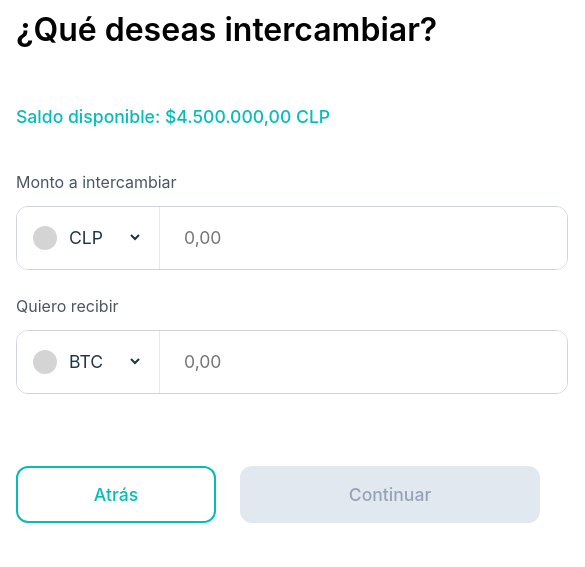
Test: ExchangePage › shows error if exchange amount exceeds balance
Type "5000000" into the number field with placeholder "0,00" below "Monto a intercambiar" at (364, 238), box [160,207,567,269]
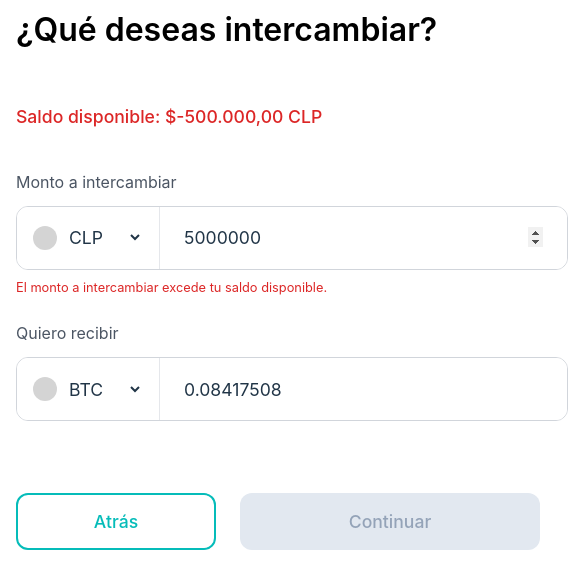
Result: the text "El monto a intercambiar excede tu saldo disponible." is shown at [16,280,327,295]
